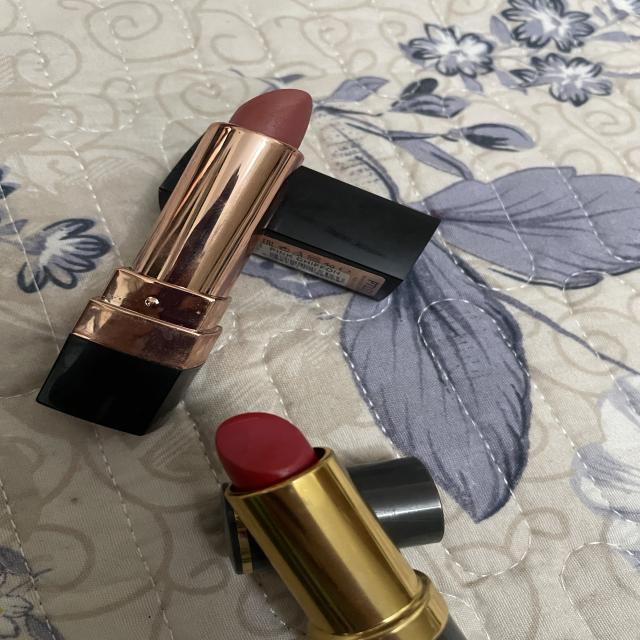lip stick: (32, 53, 498, 435), (178, 395, 526, 640)
